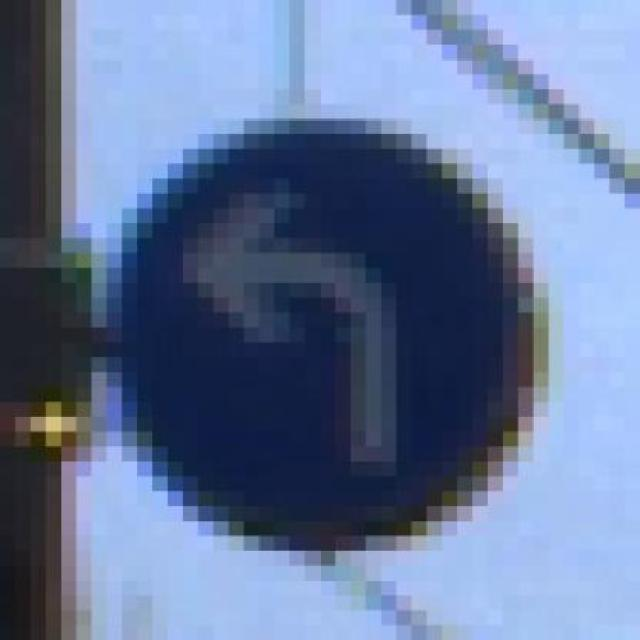Turn left ahead: (107, 104, 548, 565)
